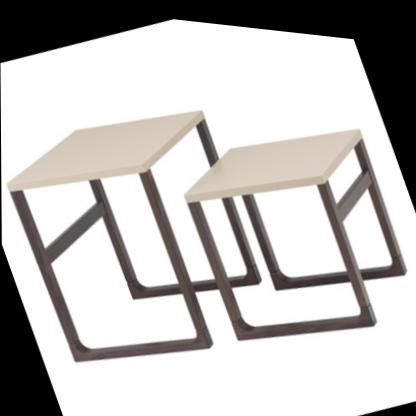Table: (0, 66, 285, 403), (161, 85, 416, 373)
